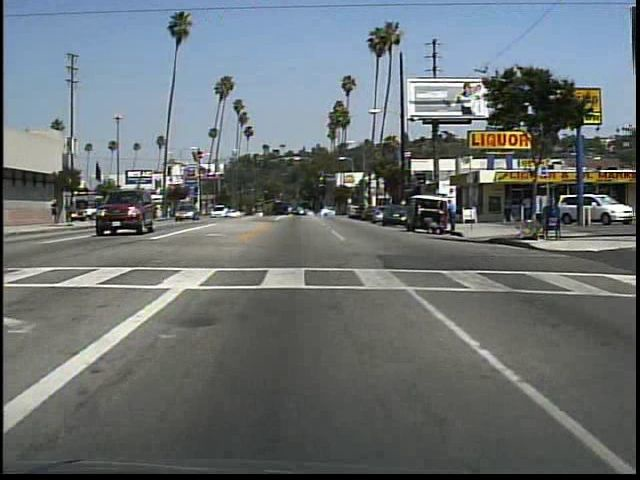person: (446, 195, 464, 235), (499, 190, 516, 223), (421, 216, 440, 235), (522, 190, 532, 223), (51, 198, 62, 227)
